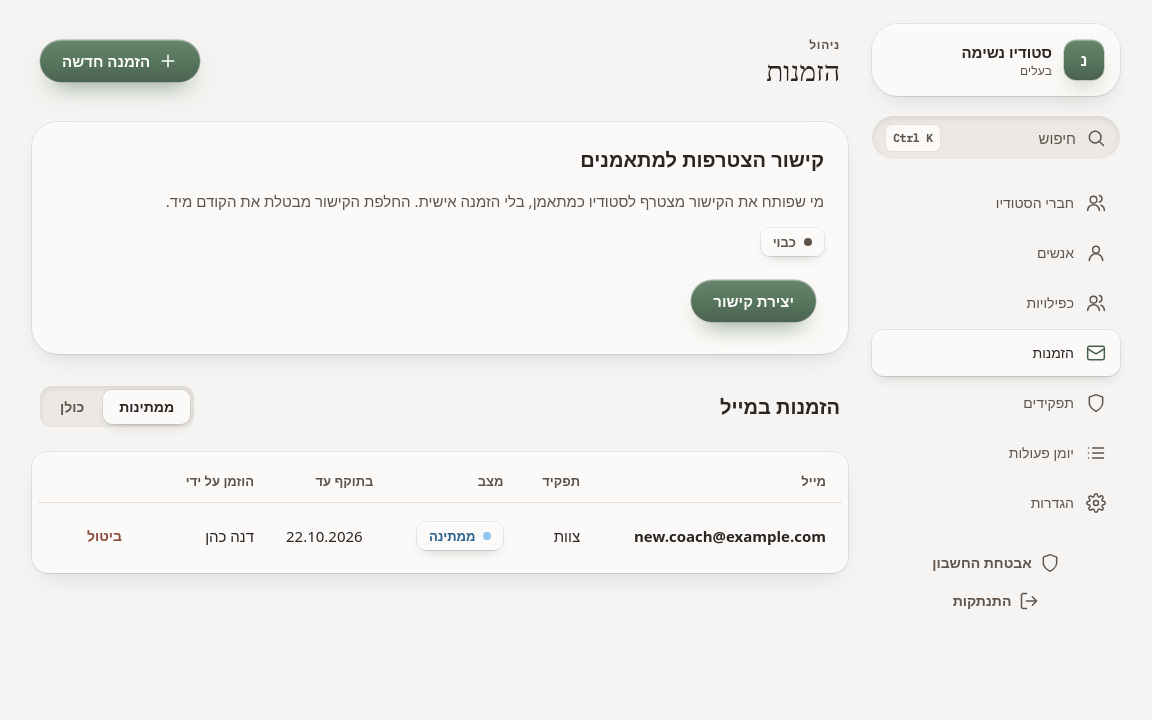
Scenario: invitations › creates an invitation and shows its link once
Click the button "הזמנה חדשה": [120, 61] box [40,40,200,82]
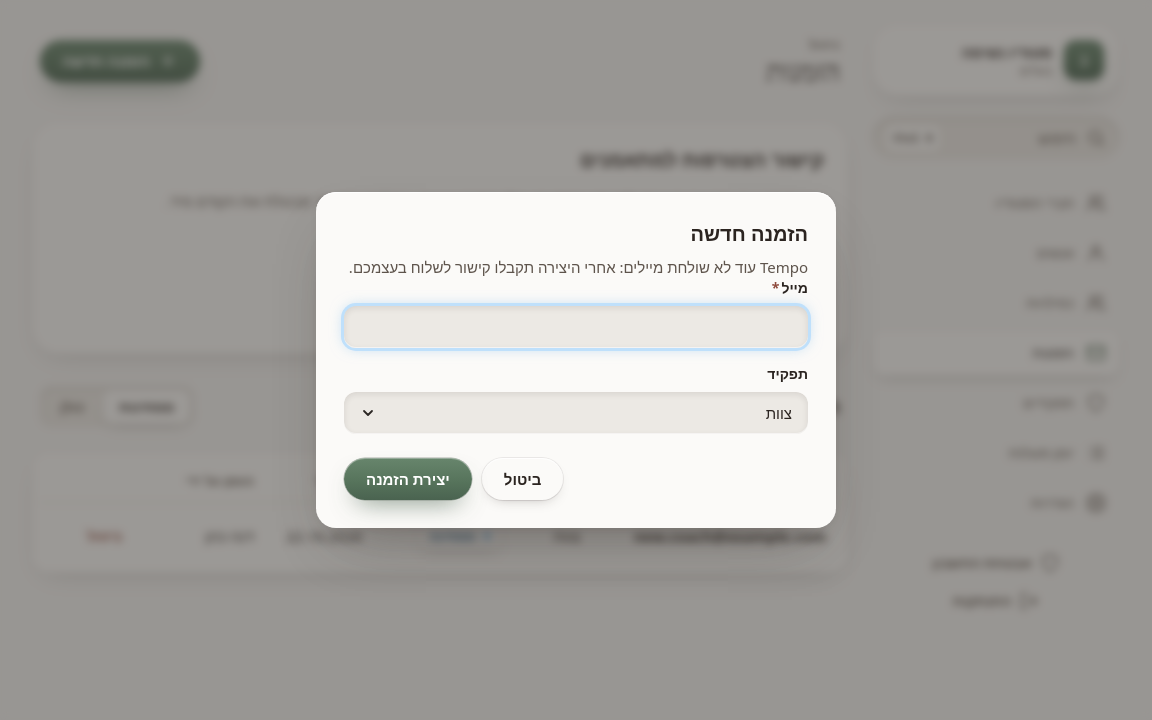
Click the button "יצירת הזמנה": [408, 479] box [344,458,472,500]
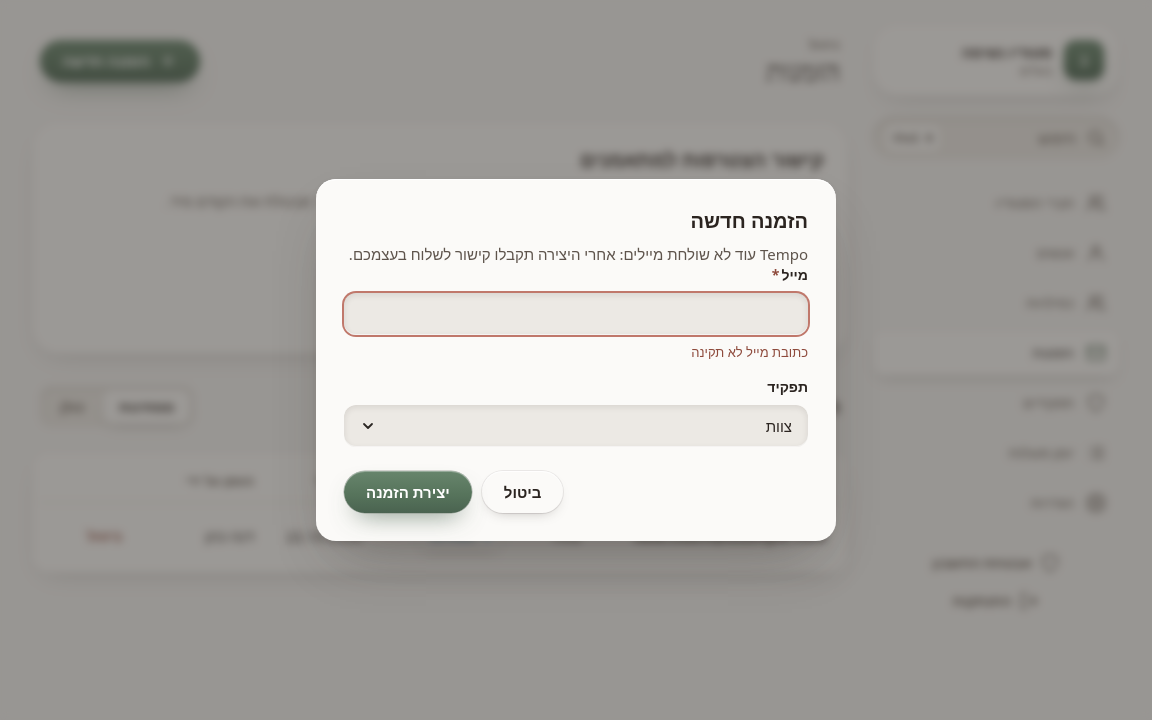
Now the text "כתובת מייל לא תקינה" is shown, box [691,343,808,361]
In the field labelled "מייל*": [576, 314] box [344,293,808,335], type " yoga@example.com "
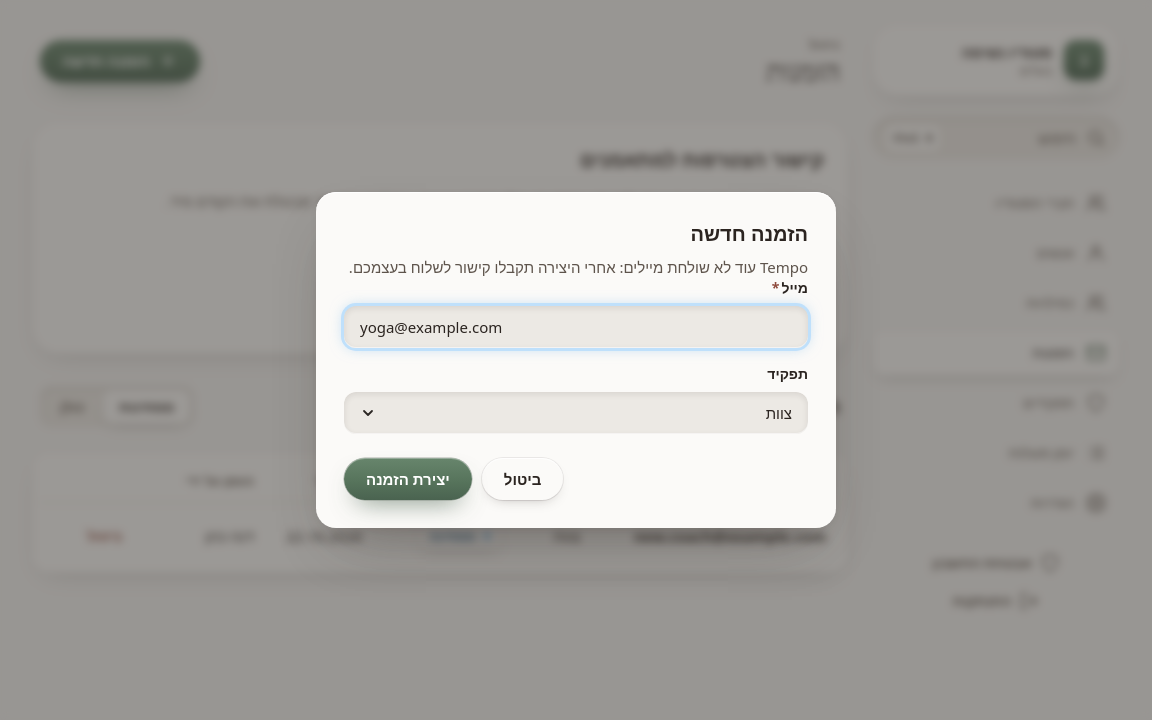
Select "מנהל" in the dropdown labelled "תפקיד": [576, 413] box [344,392,808,434]
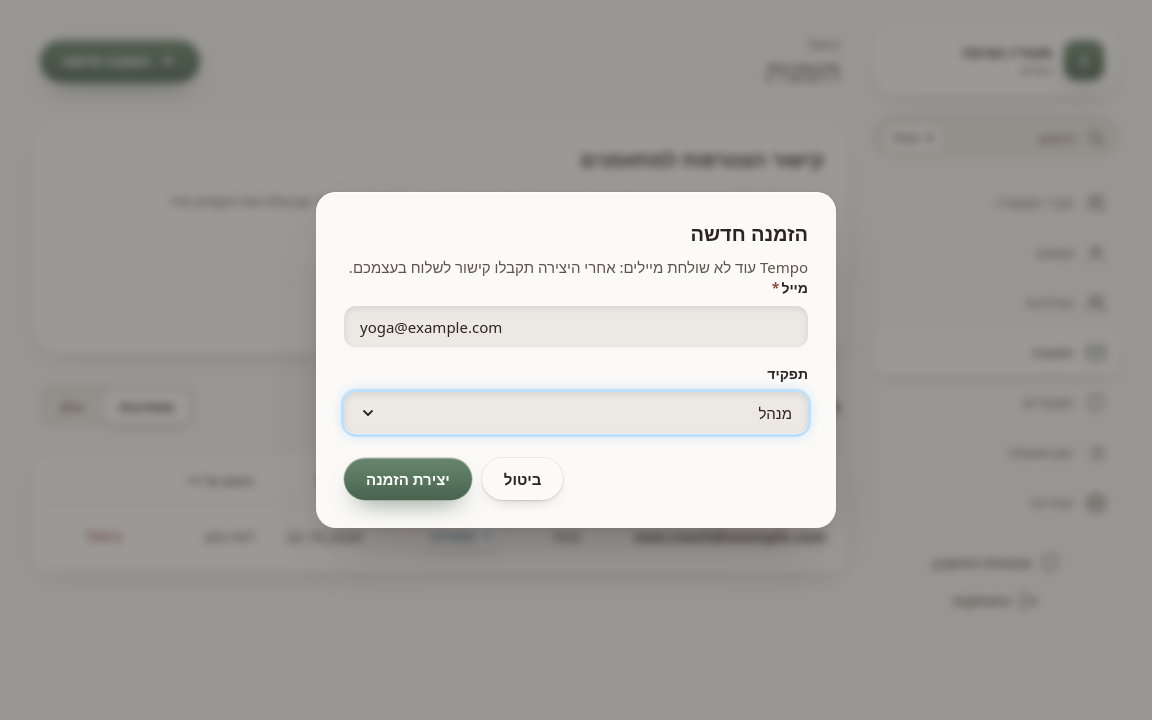
Click the button "יצירת הזמנה": [408, 479] box [344,458,472,500]
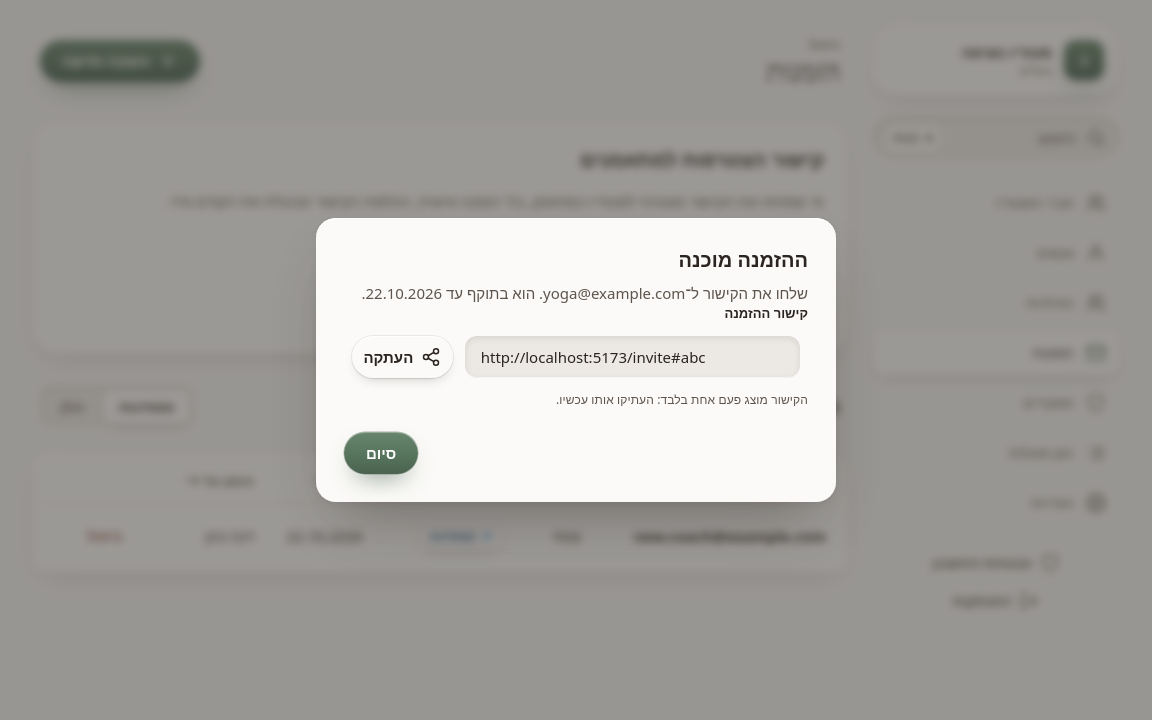
Now the field labelled "קישור ההזמנה" holds "http://localhost:5173/invite#abc", box [465,336,800,378]
